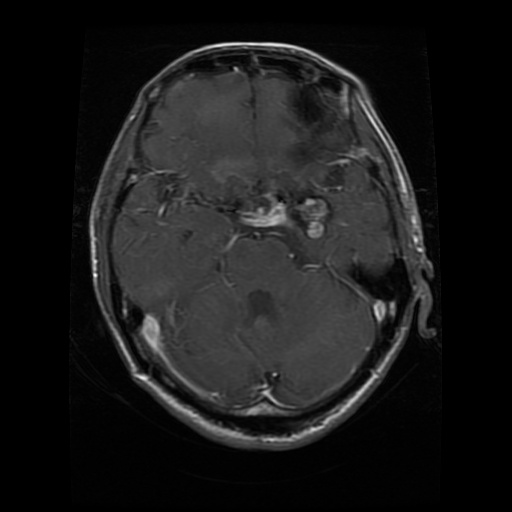glioma: (294, 191, 334, 241)
